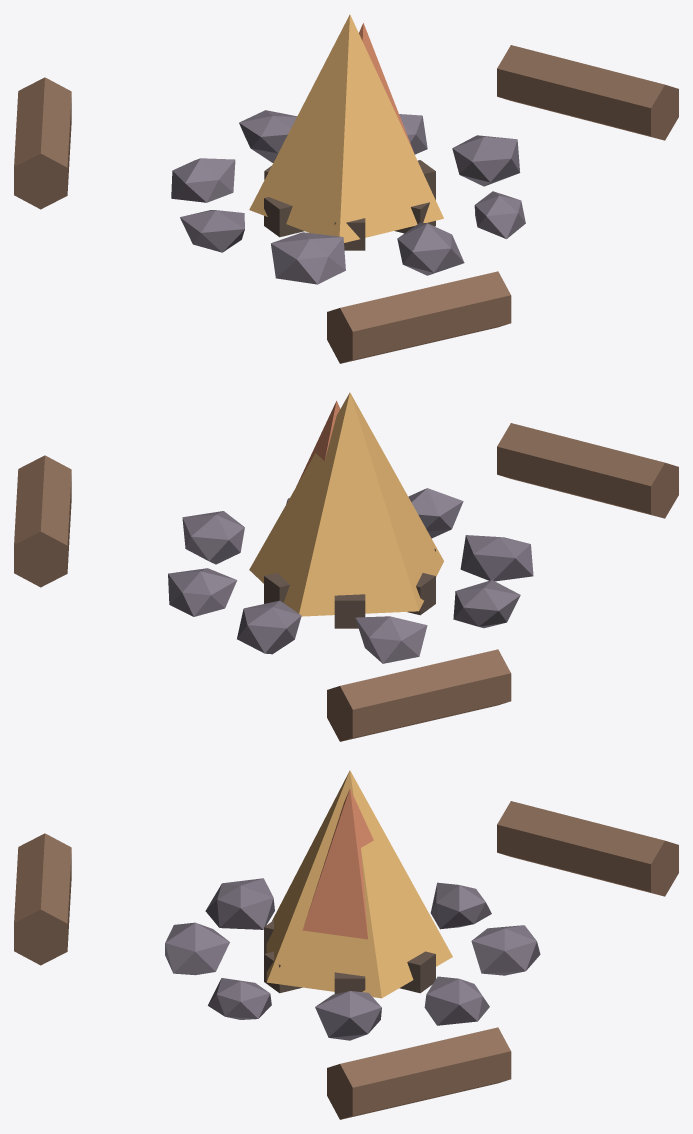
File: fire_pit.glb
The picture shows the model from 3 angles, top to bottom: view 1: azimuth 30°, elevation 25°; view 2: azimuth 150°, elevation 25°; view 3: azimuth 270°, elevation 25°; orthographic projection.
Parts seen in each view (by area): view 1: flame, detail_seat2, detail_seat0, detail_seat1, stone5, stone0, stone6, stone3, stone4, stone2, stone7, wood0 (+2 smaller); view 2: flame, detail_seat1, detail_seat2, detail_seat0, stone5, stone1, stone3, stone0, stone2, stone4, stone6, wood2 (+3 smaller); view 3: flame, detail_seat0, detail_seat1, detail_seat2, flame2, stone5, stone2, stone6, stone0, stone1, stone3, stone7 (+2 smaller).
Boxes of the visible parts, <box> form: flame: <box>249,14,443,242</box>; detail_seat2: <box>327,271,511,363</box>; detail_seat0: <box>497,45,678,140</box>; detail_seat1: <box>14,77,71,209</box>; stone5: <box>271,232,345,284</box>; stone0: <box>452,135,520,186</box>; stone6: <box>397,223,464,275</box>; stone3: <box>171,158,235,202</box>; stone4: <box>180,210,244,252</box>; stone2: <box>239,110,296,162</box>; stone7: <box>474,191,525,238</box>; wood0: <box>264,160,435,237</box>; flame: <box>249,392,443,616</box>; detail_seat1: <box>327,649,511,741</box>; detail_seat2: <box>497,423,678,518</box>; detail_seat0: <box>14,455,71,587</box>; stone5: <box>460,535,533,581</box>; stone1: <box>168,568,237,616</box>; stone3: <box>355,616,427,663</box>; stone0: <box>182,511,244,564</box>; stone2: <box>237,600,301,654</box>; stone4: <box>453,580,520,628</box>; stone6: <box>408,488,463,538</box>; wood2: <box>334,594,365,628</box>; flame: <box>266,770,452,998</box>; detail_seat0: <box>327,1027,511,1119</box>; detail_seat1: <box>497,801,678,896</box>; detail_seat2: <box>14,833,71,965</box>; flame2: <box>302,789,373,939</box>; stone5: <box>205,878,274,929</box>; stone2: <box>471,925,540,975</box>; stone6: <box>165,922,229,975</box>; stone0: <box>315,991,381,1040</box>; stone1: <box>424,976,489,1025</box>; stone3: <box>430,882,491,929</box>; stone7: <box>208,978,271,1019</box>.
Size of the model in its own units: 2.59 by 0.8801 by 2.58.
